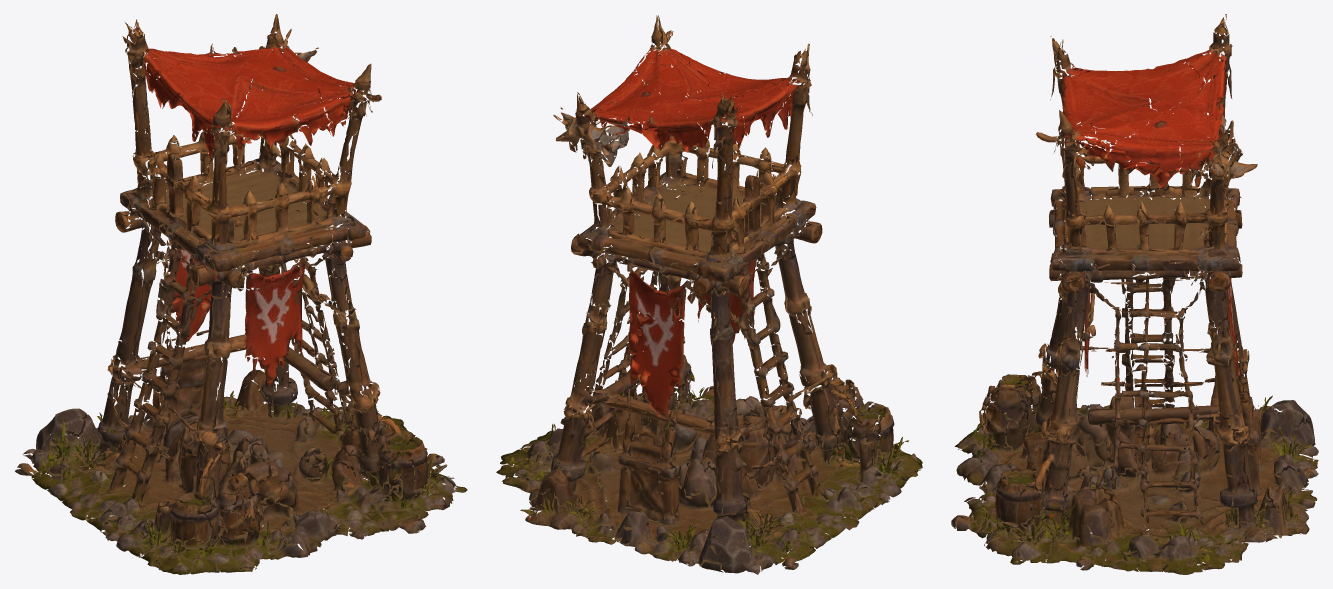
File: goblin_tower.glb
3 views of the same model, side by side, from view 1: azimuth 30°, elevation 25°; view 2: azimuth 150°, elevation 25°; view 3: azimuth 270°, elevation 25° (orthographic). The views are drawn at different scales.
Size of the model in its own units: 1.51 by 1.86 by 1.42.
Materials: 1 (1 with a texture image).
